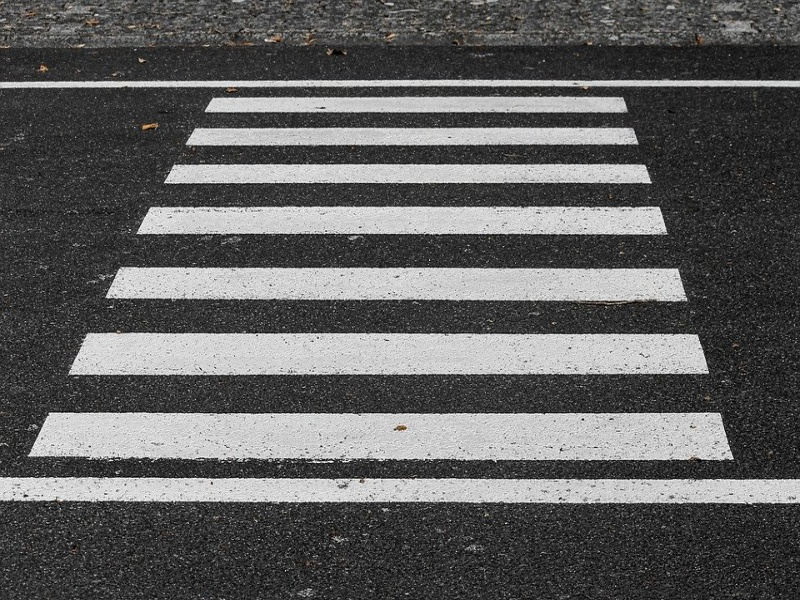zebra cross: (28, 94, 737, 468)
